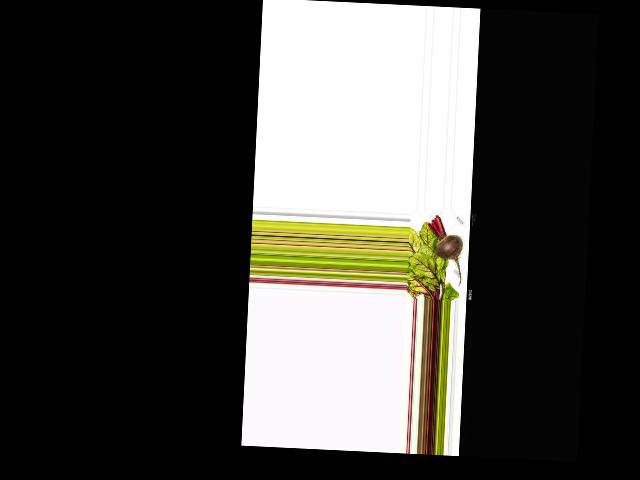beet: (425, 214, 464, 285)
